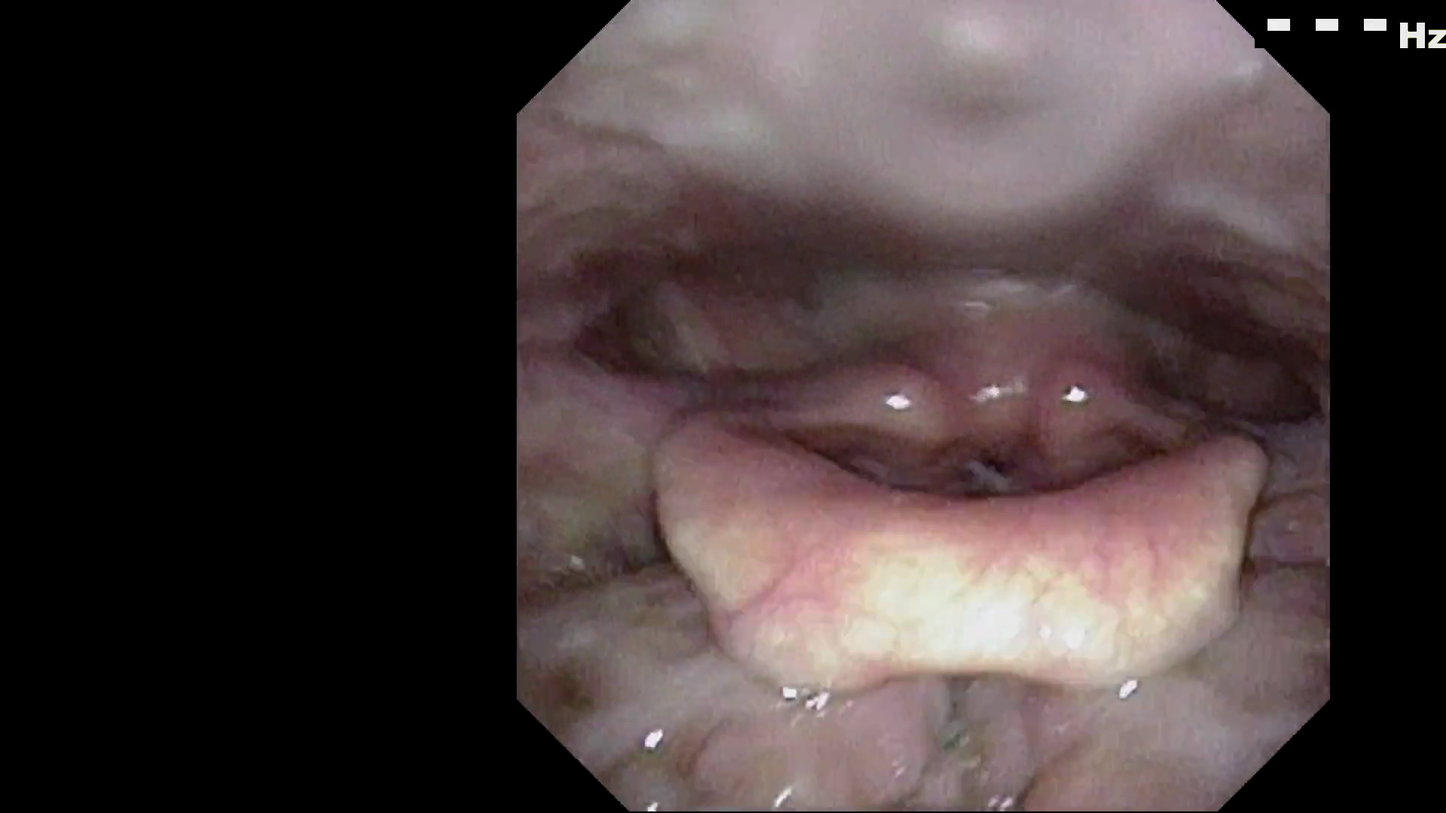epiglottis: (663, 451, 1275, 727)
trachea: (925, 418, 1050, 542), (945, 492, 1028, 582)
